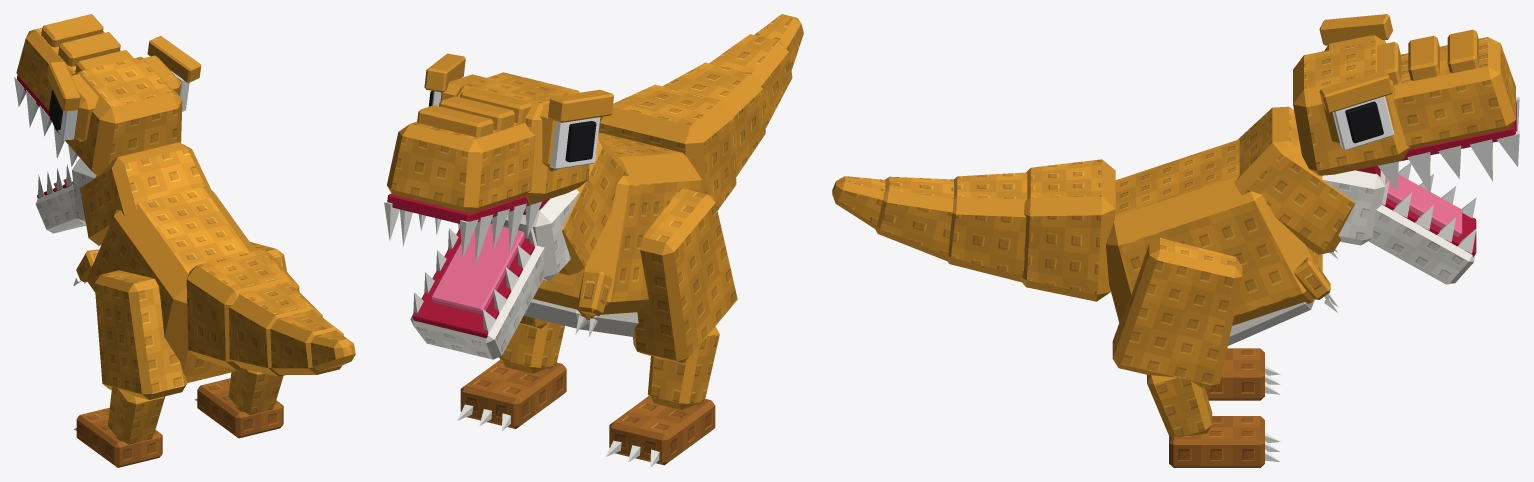
The model's file is TRex.glb.
The picture shows the model from 3 angles, left to right: view 1: azimuth 30°, elevation 25°; view 2: azimuth 150°, elevation 25°; view 3: azimuth 270°, elevation 25°; orthographic projection. The views are drawn at different scales.
Visible parts, largest first — view 1: TRex; view 2: TRex; view 3: TRex.
Boxes of the visible parts, x1,y1,x2,y2 form: TRex: [14, 14, 355, 467]; TRex: [384, 14, 803, 467]; TRex: [832, 14, 1519, 467].
Bounding box in the file's own units: 5.6 × 10.52 × 17.24.
1 material, 1 textured.
